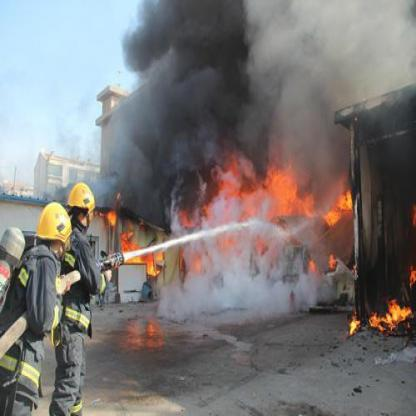fire: (166, 170, 350, 264), (116, 193, 165, 273), (350, 294, 410, 330)
smoke: (101, 0, 252, 187)
